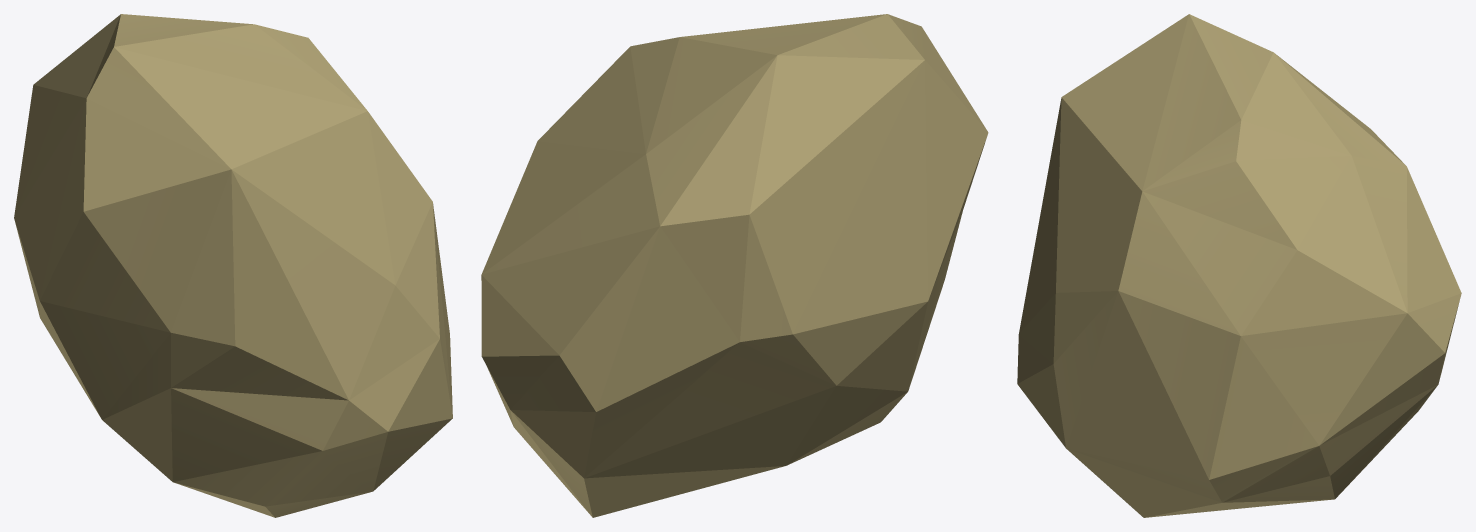
Rendered from SM_small_rock_43.fbx.
The picture shows the model from 3 angles, left to right: view 1: azimuth 30°, elevation 25°; view 2: azimuth 150°, elevation 25°; view 3: azimuth 270°, elevation 25°; orthographic projection. The views are drawn at different scales.
Visible parts, largest first — view 1: small_rock_43; view 2: small_rock_43; view 3: small_rock_43.
Part boxes in pixels (x1,y1,x2,y2): small_rock_43: (14,14,452,517); small_rock_43: (481,14,988,517); small_rock_43: (1017,14,1461,517).
Size of the model in its own units: 105 by 120 by 116.
